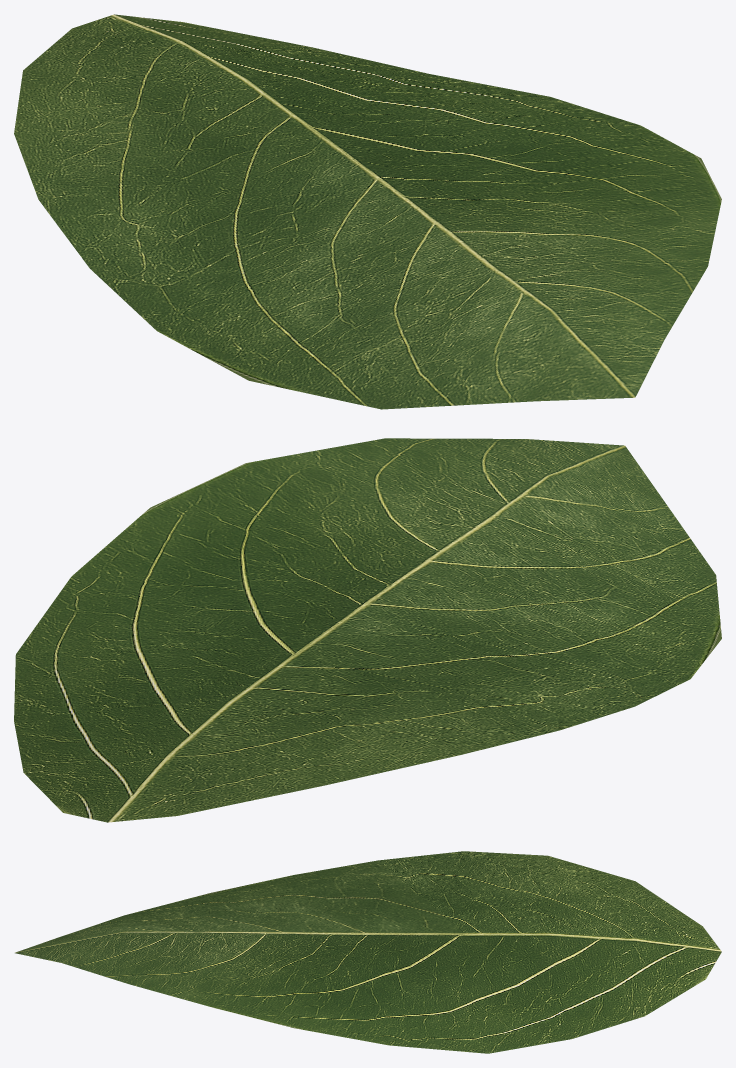
Rendered from Leaf.glb.
3 renders of one model, top to bottom at view 1: azimuth 30°, elevation 25°; view 2: azimuth 150°, elevation 25°; view 3: azimuth 270°, elevation 25°, orthographic. The views are drawn at different scales.
Visible parts, largest first — view 1: Plane; view 2: Plane; view 3: Plane.
Part boxes in pixels (x1,y1,x2,y2): Plane: (14,14,721,409); Plane: (14,438,721,822); Plane: (15,851,721,1053).
Size of the model in its own units: 5.16 by 0.555 by 8.33.
Materials: 1 (1 with a texture image).
